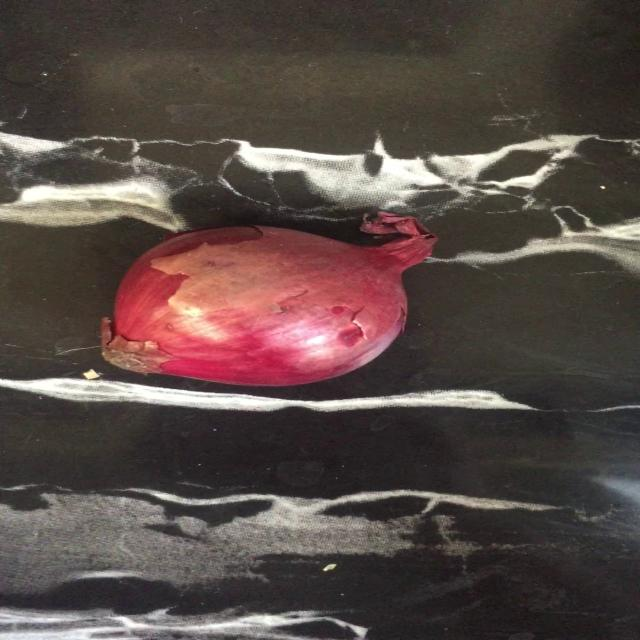Onion: (100, 212, 436, 386)
